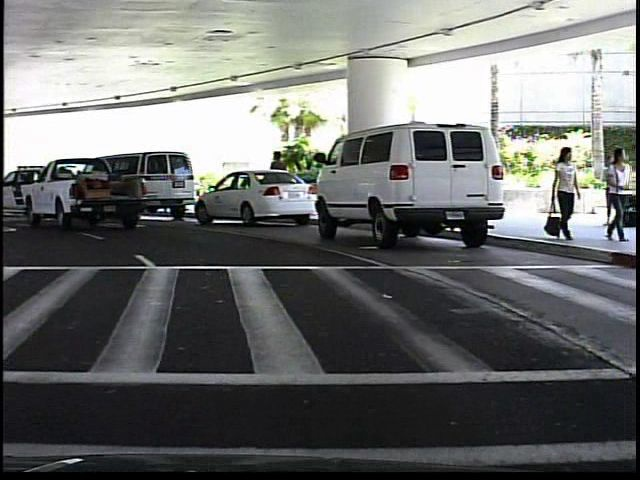person: (547, 143, 579, 242), (604, 145, 630, 244), (601, 155, 624, 231), (268, 148, 294, 213)
